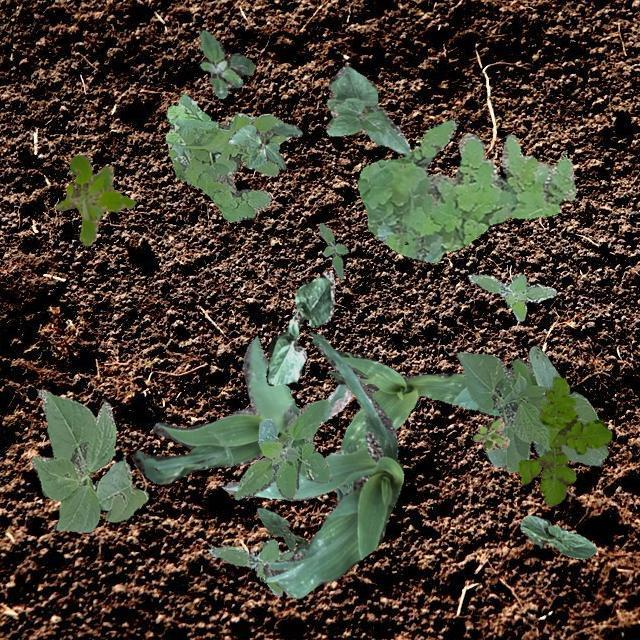crop: (220, 330, 402, 598), (132, 334, 352, 484), (328, 350, 500, 500), (456, 344, 608, 472), (31, 388, 148, 530), (264, 270, 334, 384), (326, 66, 410, 154), (226, 122, 302, 168), (520, 514, 596, 558), (256, 506, 306, 554)
weed: (357, 118, 576, 262), (164, 94, 290, 220), (518, 376, 610, 506), (232, 398, 332, 500), (56, 154, 136, 244), (208, 538, 294, 594), (468, 272, 556, 320), (198, 28, 254, 98), (318, 222, 346, 278), (472, 418, 508, 450)
